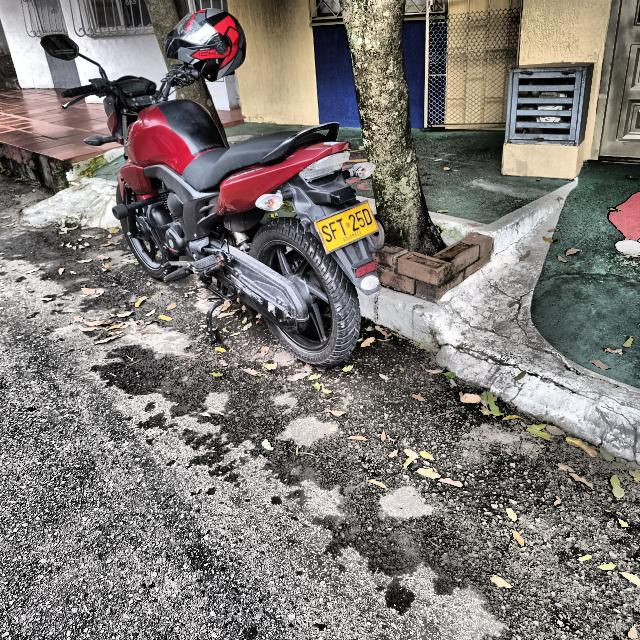plate: (314, 199, 380, 255)
